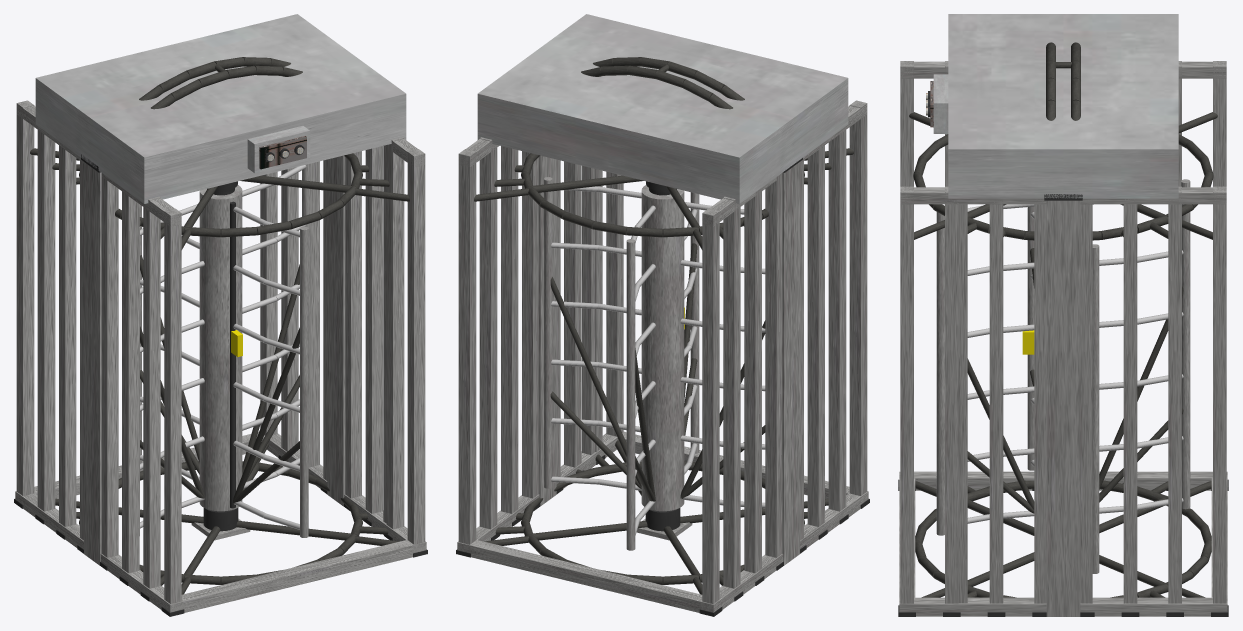
The model's file is pictureX_0611_full_height_turnstile__0566.glb.
The picture shows the model from 3 angles, left to right: view 1: azimuth 30°, elevation 25°; view 2: azimuth 150°, elevation 25°; view 3: azimuth 270°, elevation 25°; orthographic projection. The views are drawn at different scales.
Visible parts, largest first — view 1: guard_frame::header_form__arched_header__housing_slab, rotor::rotor__hub_drum, guard_frame::guard_frame__portal_post_frame__post_8, guard_frame::guard_frame__portal_post_frame__post_7, guard_frame::guard_frame__portal_post_frame__post_6, guard_frame::header_form__arched_header__arch_post_0, guard_frame::guard_frame__portal_post_frame__post_9, guard_frame::guard_frame__portal_post_frame__post_0, guard_frame::guard_frame__portal_post_frame__post_1, guard_frame::guard_frame__portal_post_frame__post_2, guard_frame::guard_frame__portal_post_frame__post_5, guard_frame::guard_frame__portal_post_frame__post_3 (+22 smaller); view 2: guard_frame::header_form__arched_header__housing_slab, rotor::rotor__hub_drum, guard_frame::guard_frame__portal_post_frame__post_15, guard_frame::guard_frame__portal_post_frame__post_0, guard_frame::guard_frame__portal_post_frame__post_1, guard_frame::header_form__arched_header__arch_post_0, guard_frame::guard_frame__portal_post_frame__post_14, guard_frame::guard_frame__portal_post_frame__post_7, guard_frame::guard_frame__portal_post_frame__post_6, guard_frame::guard_frame__portal_post_frame__post_5, guard_frame::guard_frame__portal_post_frame__post_4, guard_frame::guard_frame__portal_post_frame__post_2 (+23 smaller); view 3: guard_frame::header_form__arched_header__housing_slab, guard_frame::header_form__arched_header__arch_post_1, guard_frame::guard_frame__portal_post_frame__post_13, guard_frame::guard_frame__portal_post_frame__post_10, guard_frame::guard_frame__portal_post_frame__post_15, guard_frame::guard_frame__portal_post_frame__post_8, guard_frame::guard_frame__portal_post_frame__post_9, guard_frame::guard_frame__portal_post_frame__post_14, guard_frame::guard_frame__portal_post_frame__post_12, guard_frame::guard_frame__portal_post_frame__post_11, guard_frame::guard_frame__portal_post_frame__base_rail_1, second_mechanism__emergency_breakaway_wing__wing::rotor_form (×3) (+17 smaller).
Part boxes in pixels (box(x1,y1,x2,y2)): guard_frame::header_form__arched_header__housing_slab: box(35, 14, 406, 203); rotor::rotor__hub_drum: box(199, 185, 242, 511); guard_frame::guard_frame__portal_post_frame__post_8: box(407, 149, 425, 544); guard_frame::guard_frame__portal_post_frame__post_7: box(16, 100, 34, 495); guard_frame::guard_frame__portal_post_frame__post_6: box(37, 130, 55, 511); guard_frame::header_form__arched_header__arch_post_0: box(84, 162, 101, 565); guard_frame::guard_frame__portal_post_frame__post_9: box(386, 137, 404, 529); guard_frame::guard_frame__portal_post_frame__post_0: box(164, 208, 181, 603); guard_frame::guard_frame__portal_post_frame__post_1: box(143, 196, 160, 588); guard_frame::guard_frame__portal_post_frame__post_2: box(122, 188, 139, 573); guard_frame::guard_frame__portal_post_frame__post_5: box(59, 145, 76, 526); guard_frame::guard_frame__portal_post_frame__post_3: box(101, 177, 118, 557); guard_frame::header_form__arched_header__housing_slab: box(477, 14, 848, 203); rotor::rotor__hub_drum: box(641, 185, 684, 511); guard_frame::guard_frame__portal_post_frame__post_15: box(458, 149, 476, 544); guard_frame::guard_frame__portal_post_frame__post_0: box(849, 100, 867, 495); guard_frame::guard_frame__portal_post_frame__post_1: box(828, 130, 846, 511); guard_frame::header_form__arched_header__arch_post_0: box(782, 162, 799, 565); guard_frame::guard_frame__portal_post_frame__post_14: box(479, 137, 497, 529); guard_frame::guard_frame__portal_post_frame__post_7: box(702, 208, 719, 603); guard_frame::guard_frame__portal_post_frame__post_6: box(723, 196, 740, 588); guard_frame::guard_frame__portal_post_frame__post_5: box(744, 188, 761, 573); guard_frame::guard_frame__portal_post_frame__post_4: box(765, 173, 782, 557); guard_frame::guard_frame__portal_post_frame__post_2: box(807, 145, 824, 526); guard_frame::header_form__arched_header__housing_slab: box(948, 14, 1178, 198); guard_frame::header_form__arched_header__arch_post_1: box(1046, 200, 1080, 616); guard_frame::guard_frame__portal_post_frame__post_13: box(1123, 199, 1137, 603); guard_frame::guard_frame__portal_post_frame__post_10: box(989, 201, 1003, 603); guard_frame::guard_frame__portal_post_frame__post_15: box(1213, 186, 1226, 603); guard_frame::guard_frame__portal_post_frame__post_8: box(900, 186, 913, 603); guard_frame::guard_frame__portal_post_frame__post_9: box(945, 186, 958, 603); guard_frame::guard_frame__portal_post_frame__post_14: box(1168, 186, 1181, 603); guard_frame::guard_frame__portal_post_frame__post_12: box(1080, 200, 1092, 603); guard_frame::guard_frame__portal_post_frame__post_11: box(1034, 199, 1046, 603); guard_frame::guard_frame__portal_post_frame__base_rail_1: box(899, 597, 1227, 616); second_mechanism__emergency_breakaway_wing__wing::rotor_form (×3): box(936, 212, 1034, 535).
Bounding box in the file's own units: 1.41 × 2.39 × 1.46.
8 materials, 6 textured.
